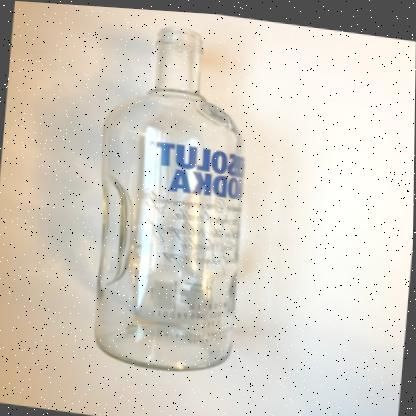Glass: (94, 24, 244, 370)
